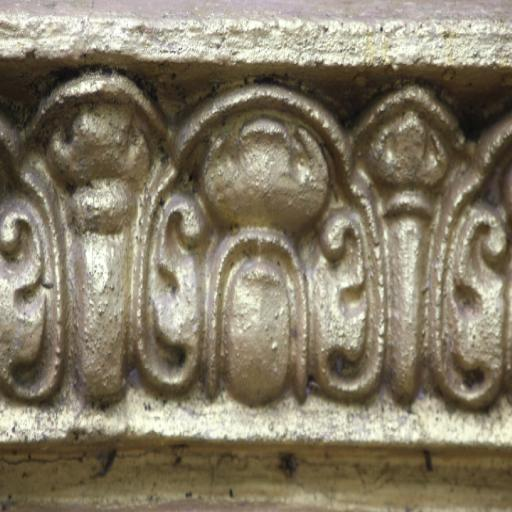la: (157, 94, 377, 396), (9, 72, 164, 398), (353, 98, 512, 403)
